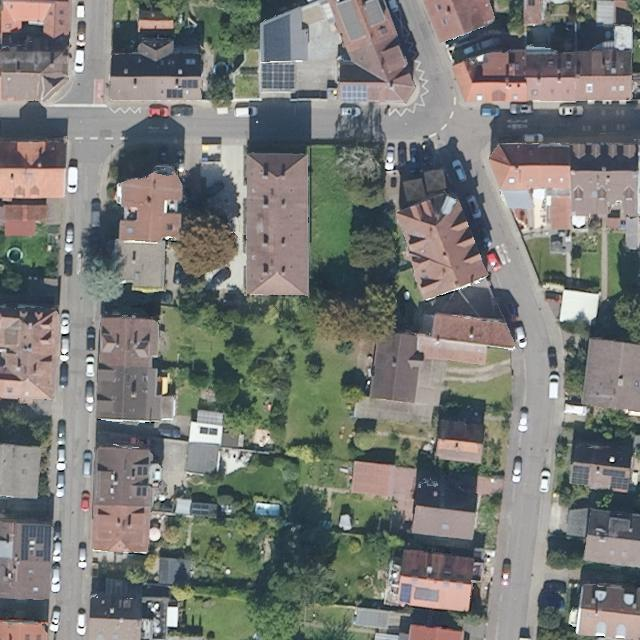PV: (19, 523, 51, 561), (259, 60, 297, 91), (602, 466, 632, 491), (341, 83, 369, 101), (570, 462, 591, 485), (396, 581, 412, 604), (164, 88, 186, 99), (179, 79, 200, 88), (135, 485, 149, 496), (136, 466, 149, 476)
